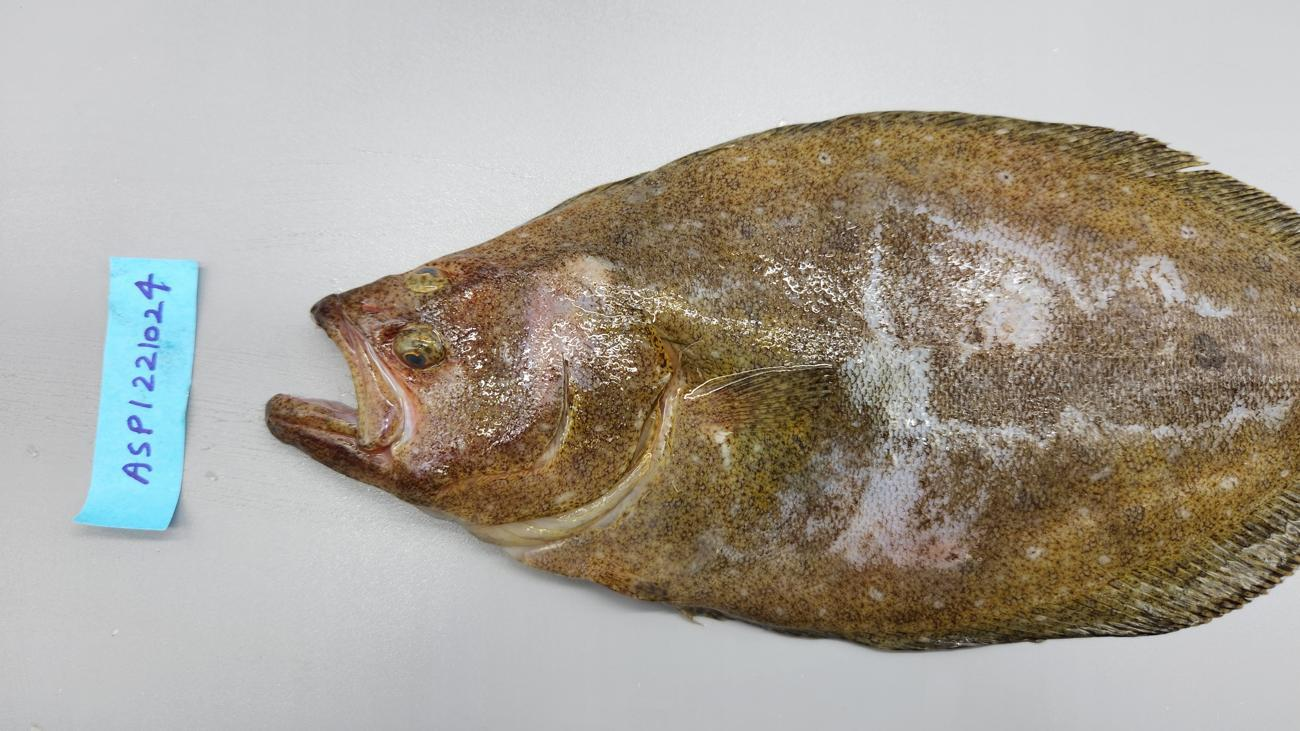SPDYH: (932, 131, 1271, 275), (674, 359, 772, 442)
